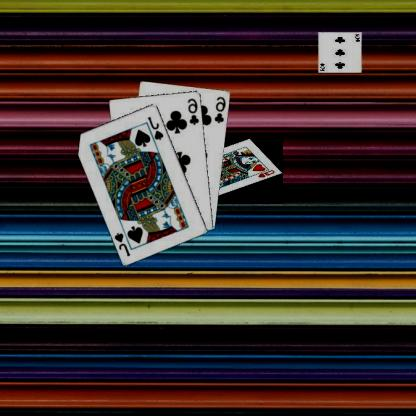6C: (214, 94, 229, 124), (187, 96, 202, 126)
JS: (113, 230, 134, 258), (147, 114, 167, 142)
